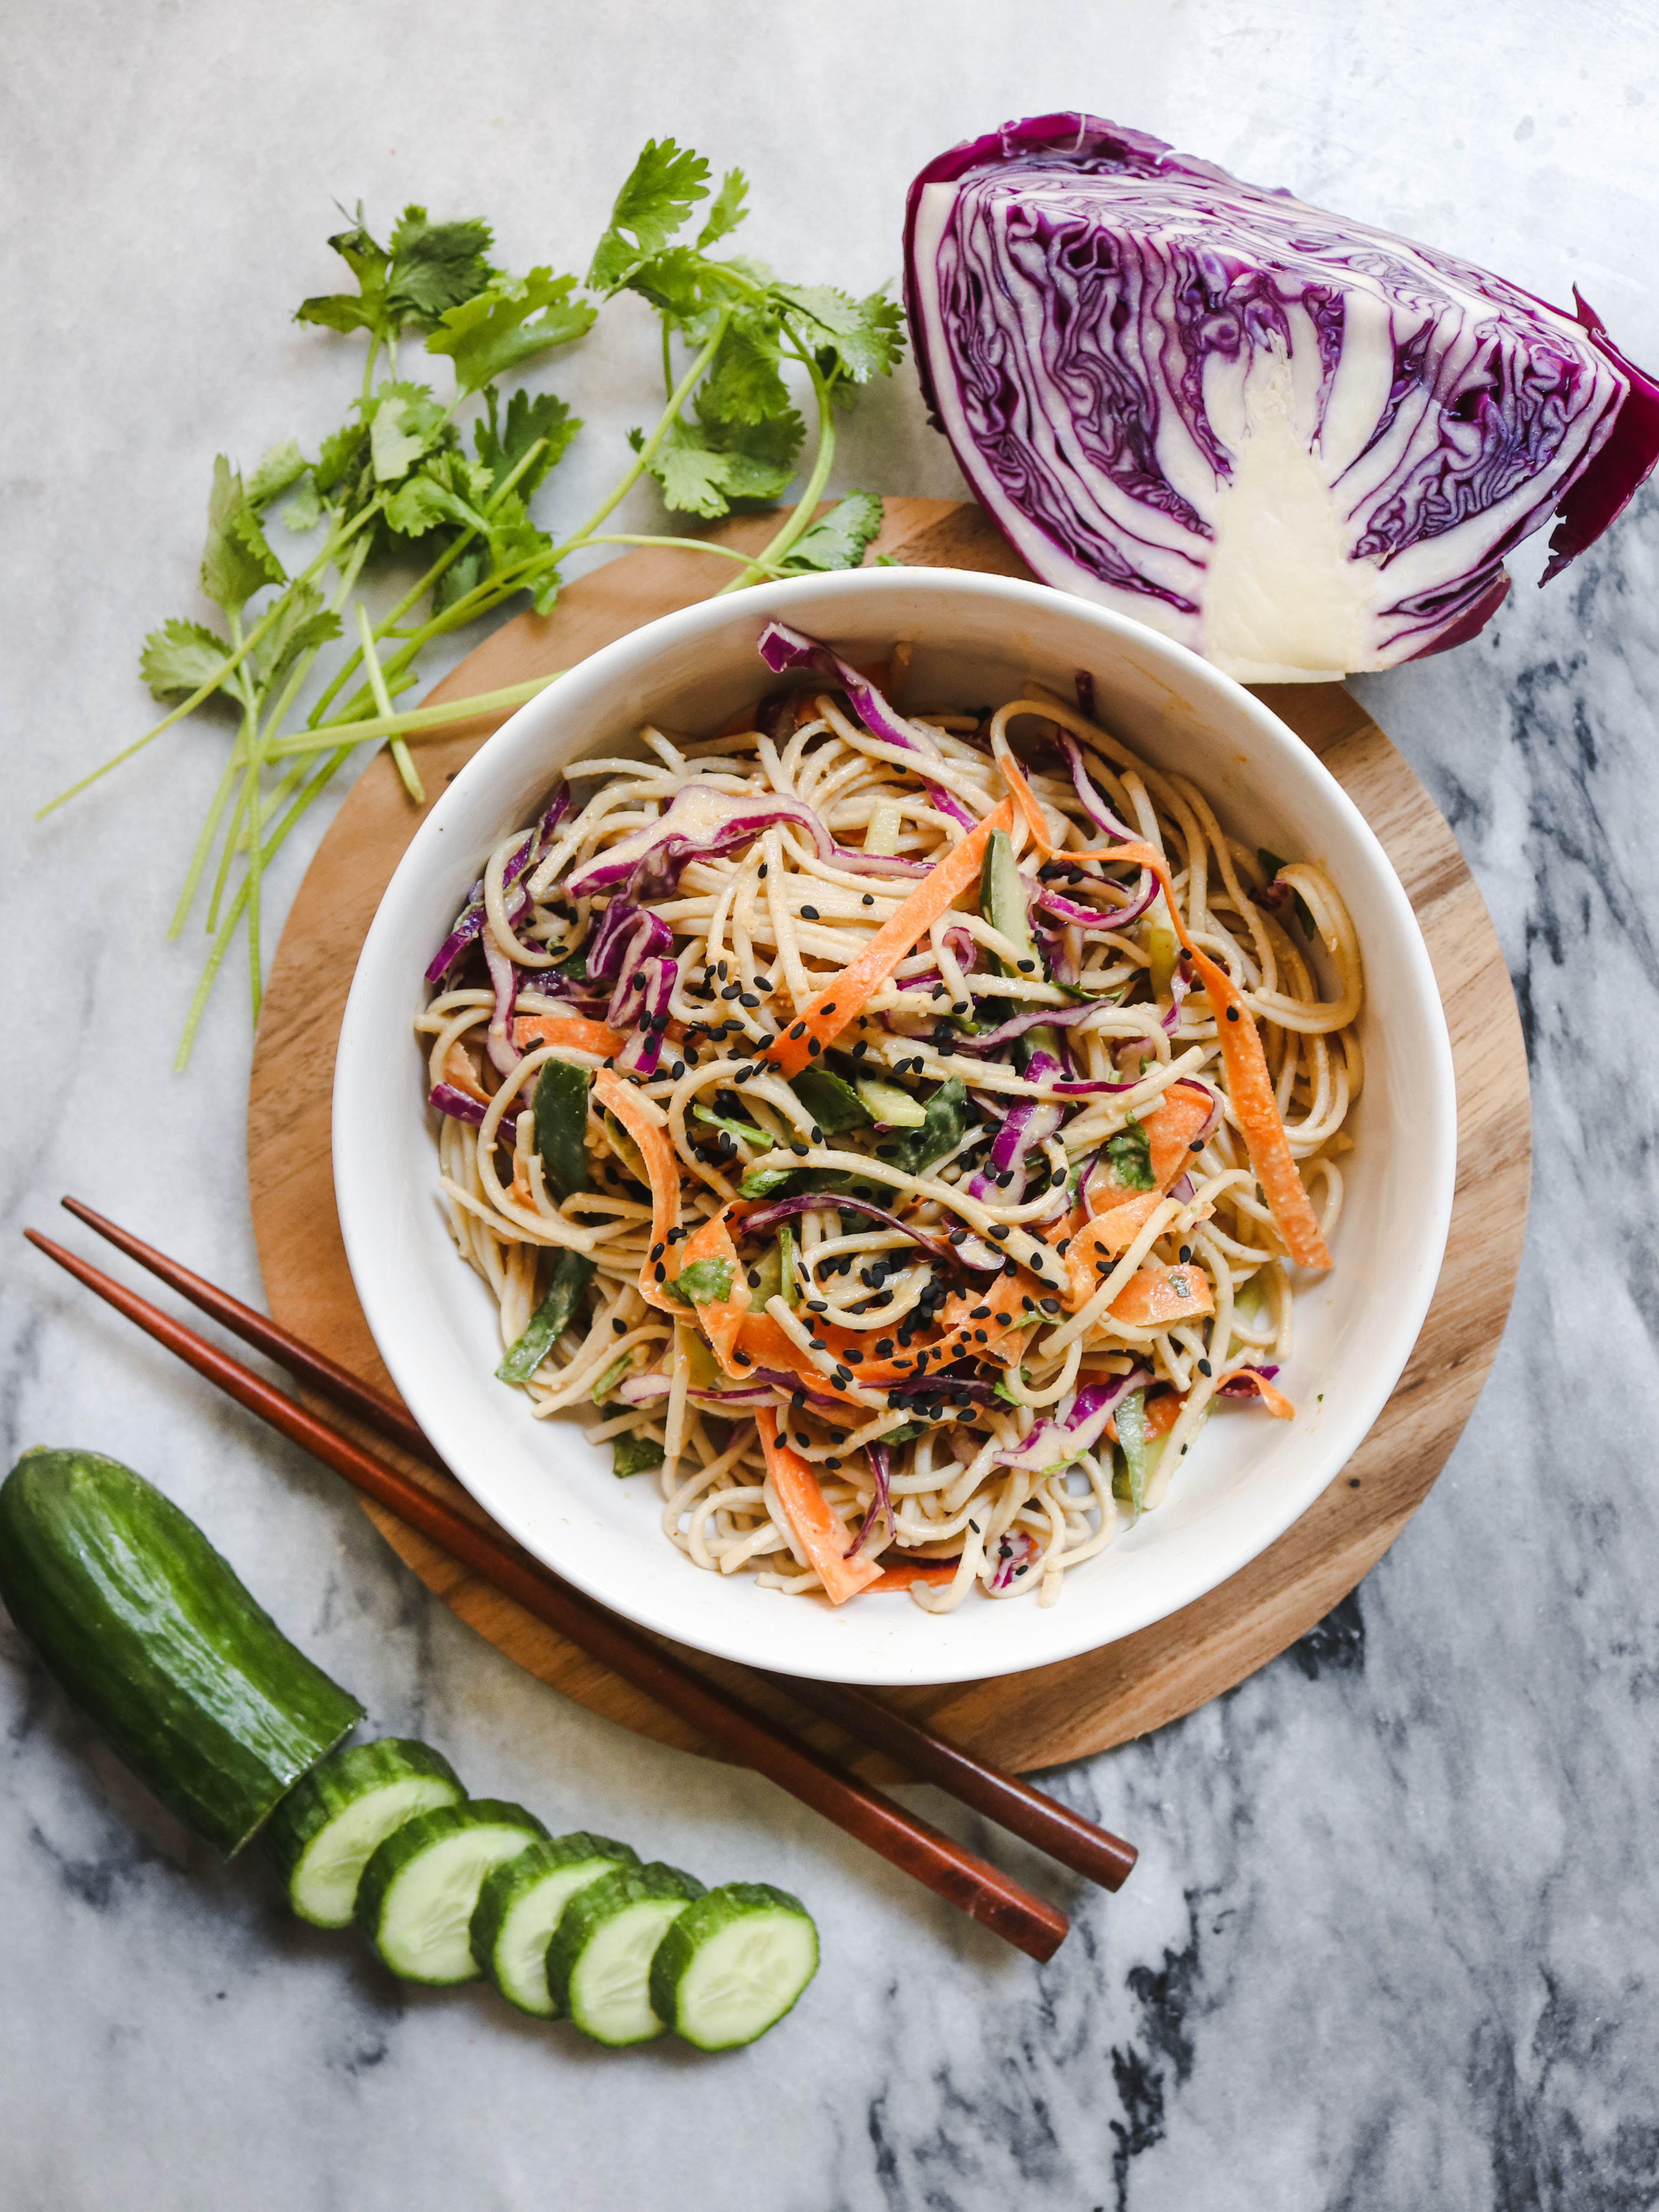Soba: (322, 626, 1453, 1598)
